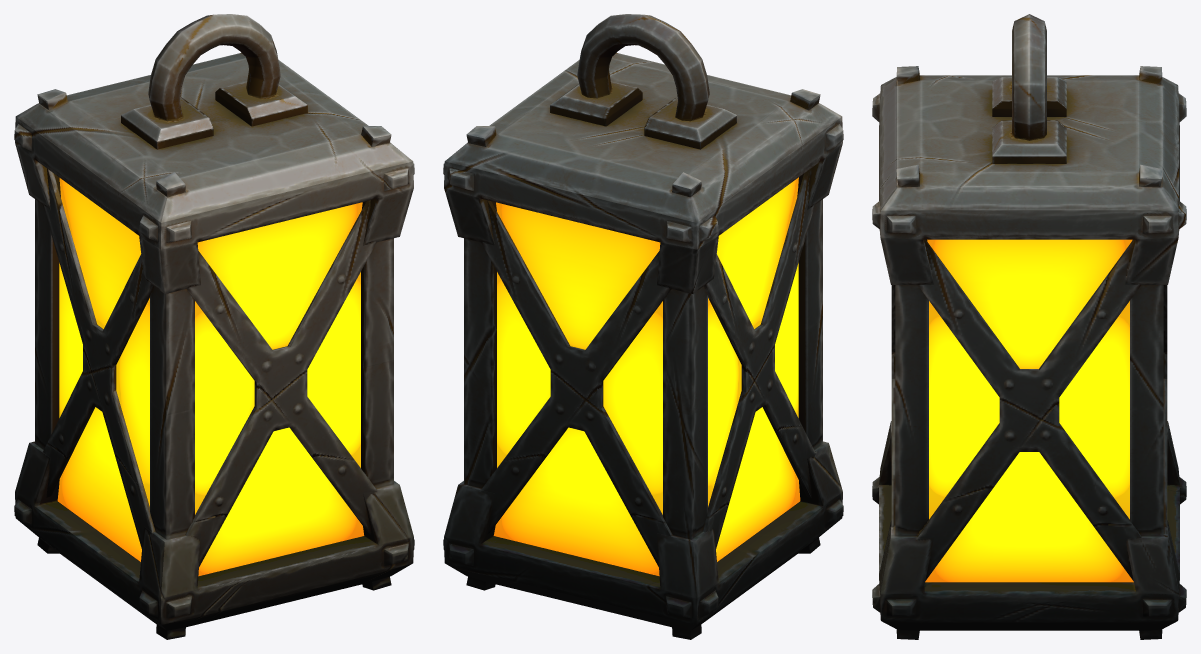
3 renders of one model, left to right at view 1: azimuth 30°, elevation 25°; view 2: azimuth 150°, elevation 25°; view 3: azimuth 270°, elevation 25°, orthographic. The views are drawn at different scales.
Visible parts, largest first — view 1: Iron; view 2: Iron; view 3: Iron.
Part boxes in pixels (bbox=[...]): Iron: bbox=[14, 14, 414, 639]; Iron: bbox=[443, 14, 843, 639]; Iron: bbox=[872, 14, 1186, 639].
Size of the model in its own units: 2.18 by 4.33 by 2.18.
Materials: 2 (2 with a texture image).
